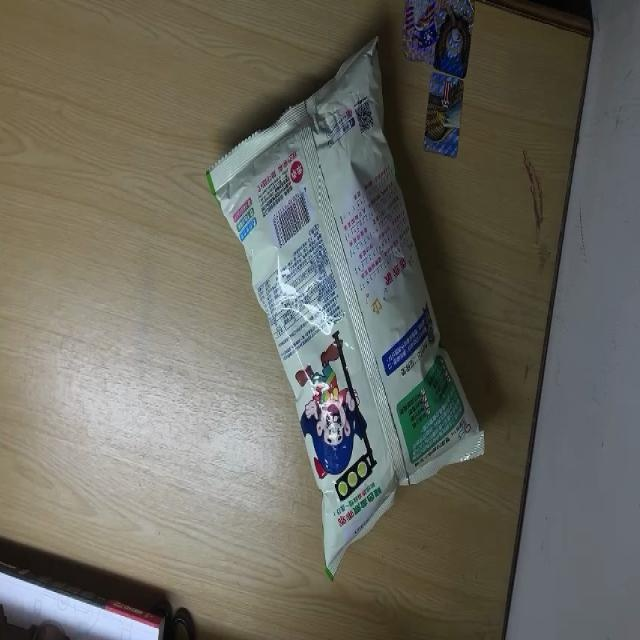Good-Luck: (206, 32, 487, 579)
